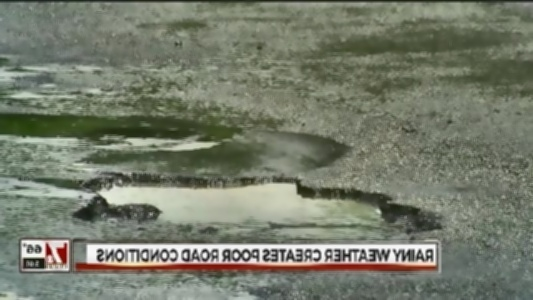pothole: (72, 172, 441, 242)
